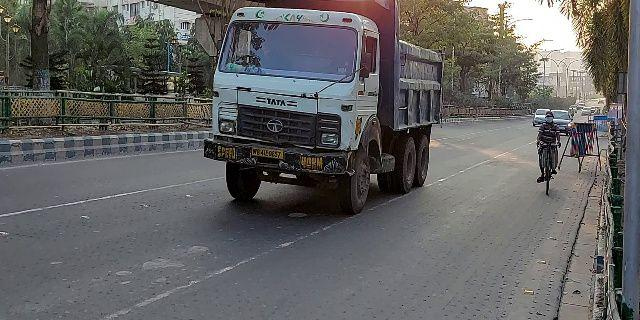Cycle: (531, 108, 564, 199)
Truck: (203, 1, 445, 215)
